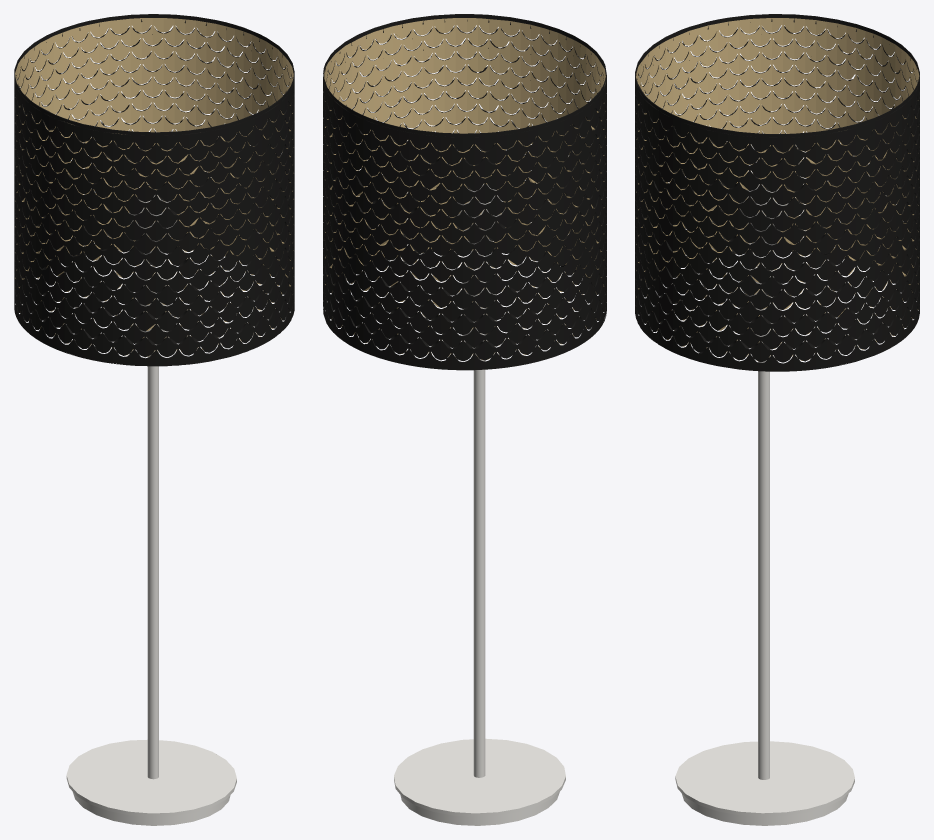
Rendered from ikea-nymo-lamp.glb.
The picture shows the model from 3 angles, left to right: view 1: azimuth 30°, elevation 25°; view 2: azimuth 150°, elevation 25°; view 3: azimuth 270°, elevation 25°; orthographic projection.
Parts seen in each view (by area): view 1: ID208, ID8; view 2: ID208, ID8; view 3: ID208, ID8.
Part boxes in pixels (x1,y1,x2,y2): ID208: [14, 14, 294, 366]; ID8: [66, 274, 236, 825]; ID208: [323, 14, 606, 370]; ID8: [394, 262, 565, 825]; ID208: [635, 14, 919, 371]; ID8: [675, 265, 854, 825].
Size of the model in its own units: 0.25 by 0.7 by 0.25.
